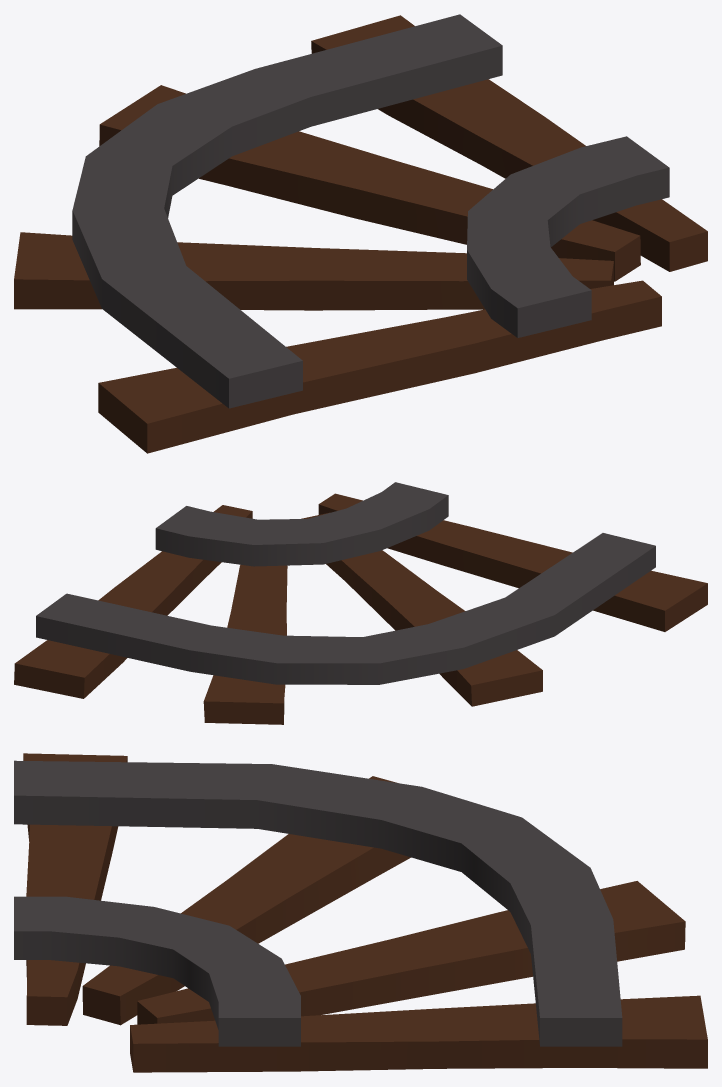
File: track_curve.fbx
The picture shows the model from 3 angles, top to bottom: view 1: azimuth 30°, elevation 25°; view 2: azimuth 150°, elevation 25°; view 3: azimuth 270°, elevation 25°; orthographic projection. The views are drawn at different scales.
Visible parts, largest first — view 1: track_curved; view 2: track_curved; view 3: track_curved.
Part boxes in pixels (box(x1,y1,x2,y2)): track_curved: box(14, 14, 707, 453); track_curved: box(14, 482, 707, 724); track_curved: box(14, 753, 707, 1072).
Size of the model in its own units: 290 by 26.85 by 290.
